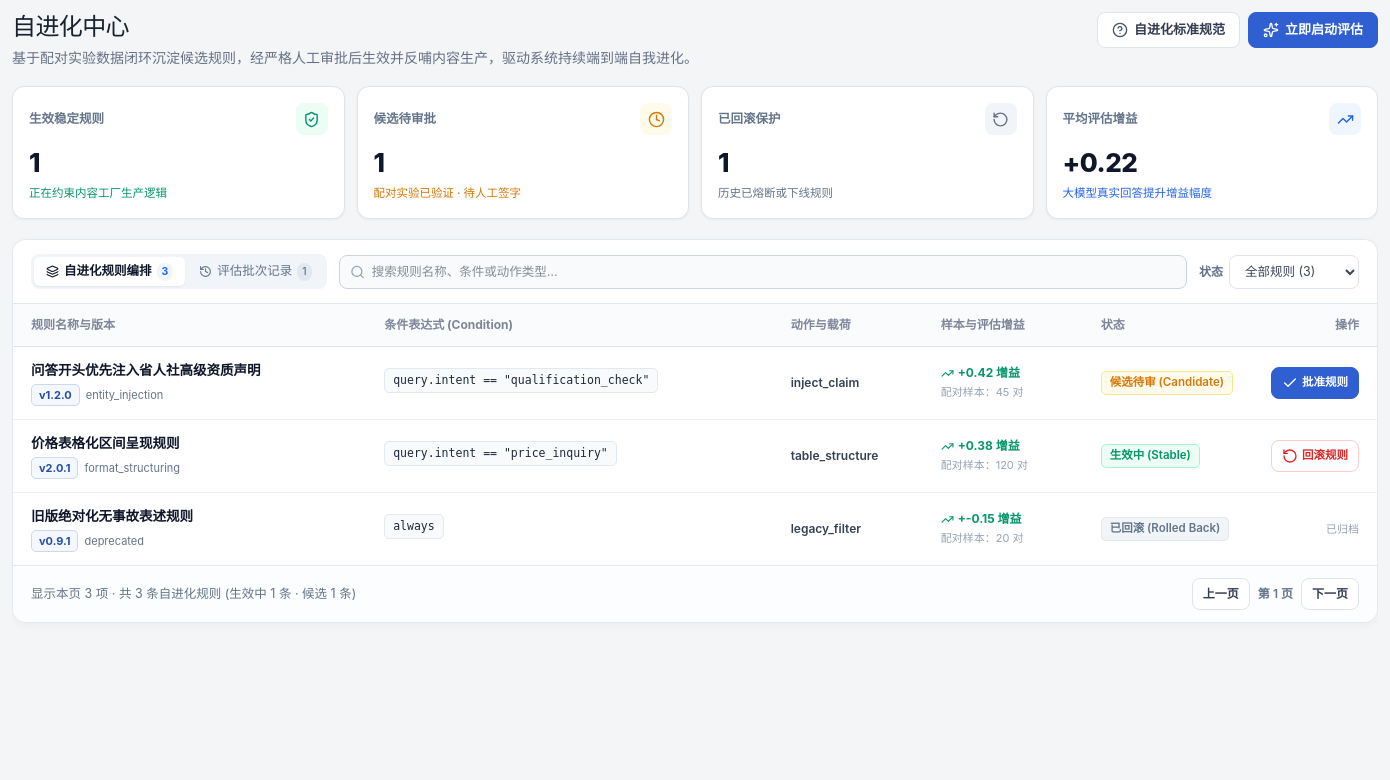
Test: EvolutionView Component Redesign › switches to evaluation runs tab
Click the text "评估批次记录" at (255, 272), box [217,262,292,281]
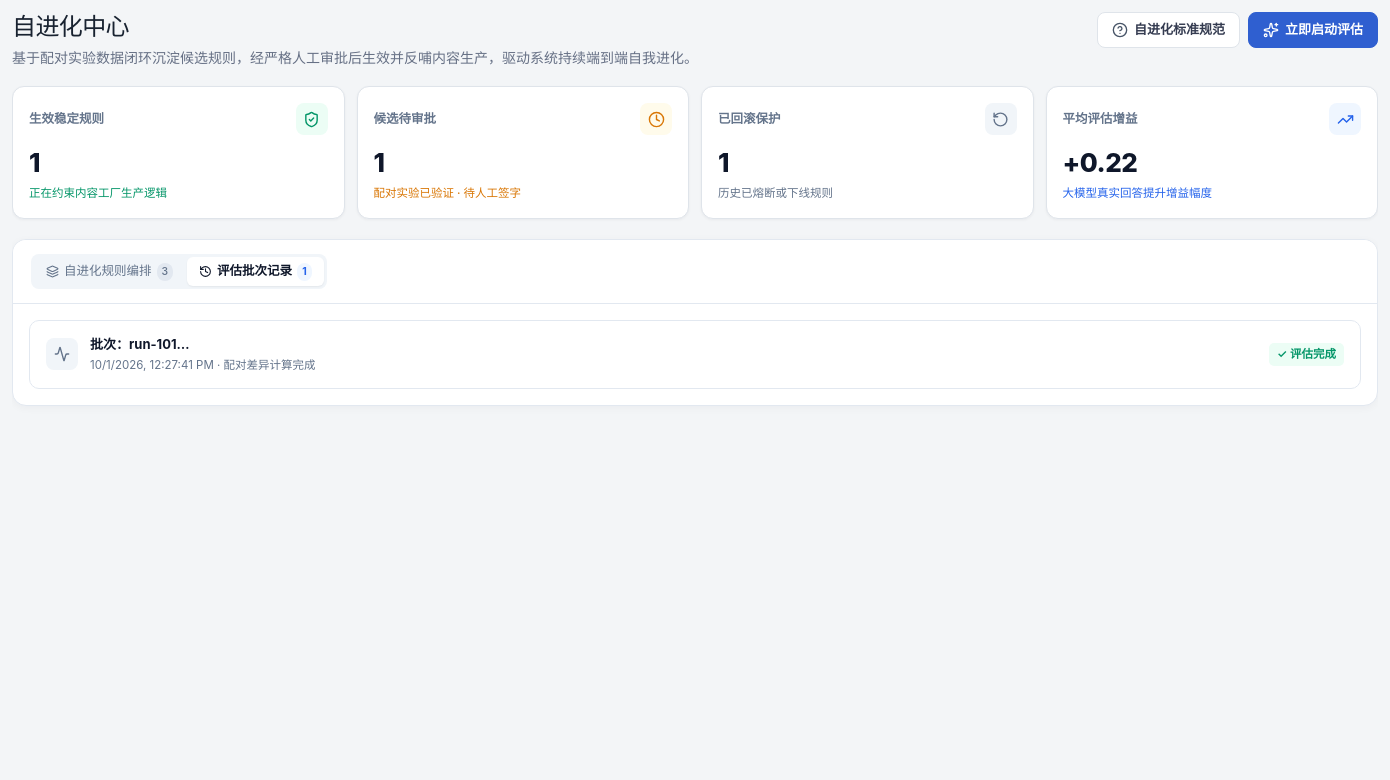
Now the text "10/1/2026, 12:27:41 PM · 配对差异计算完成" is shown, box [90,356,316,374]
Now the text "✓ 评估完成" is shown, box [1269,343,1344,366]
